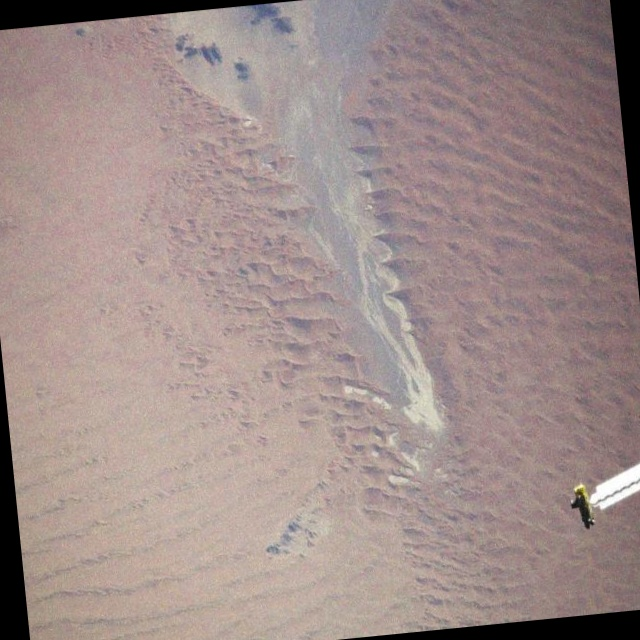satellite: (556, 458, 640, 539)
